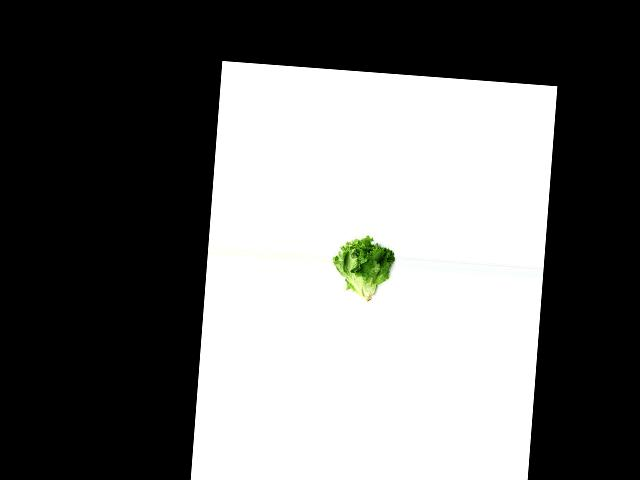lettuce: (328, 234, 397, 303)
